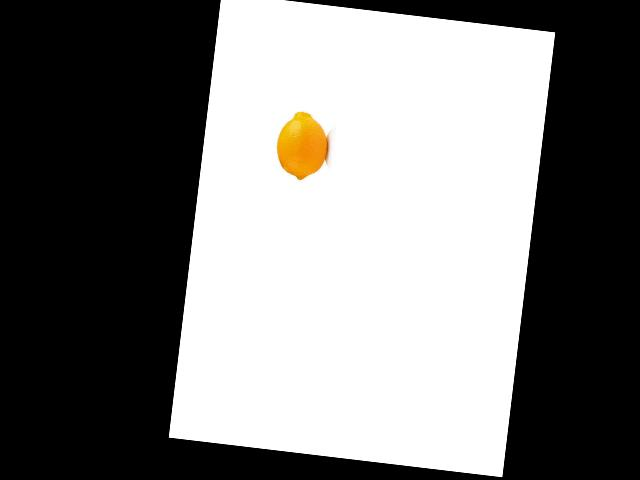lemon: (272, 105, 335, 184)
